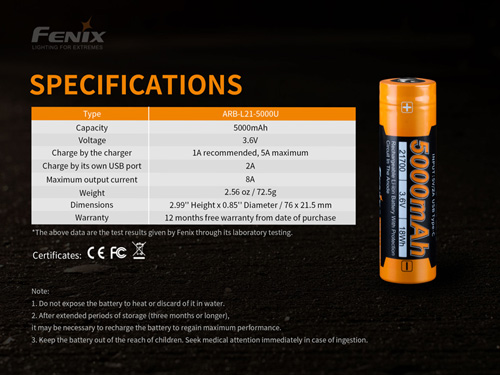Battery: (372, 71, 441, 286)
